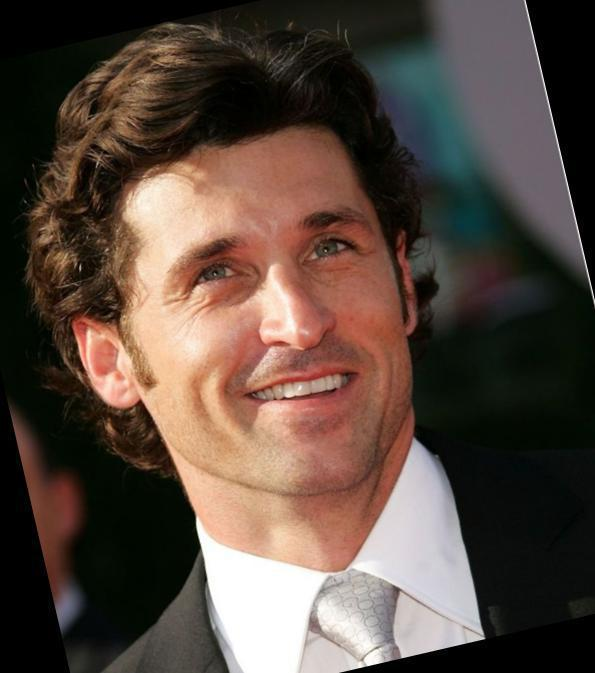Sober: (129, 143, 406, 504)
